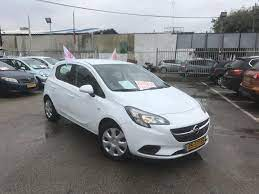licence: (186, 135, 207, 155)
